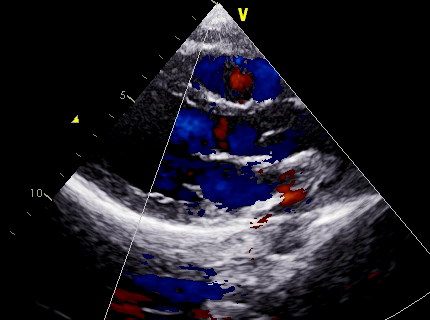AR: (196, 108, 245, 160)
